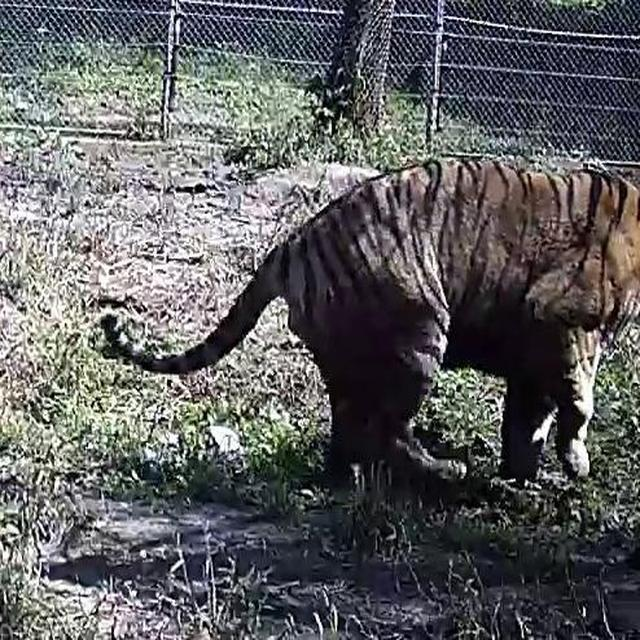tiger: (99, 154, 639, 507)
